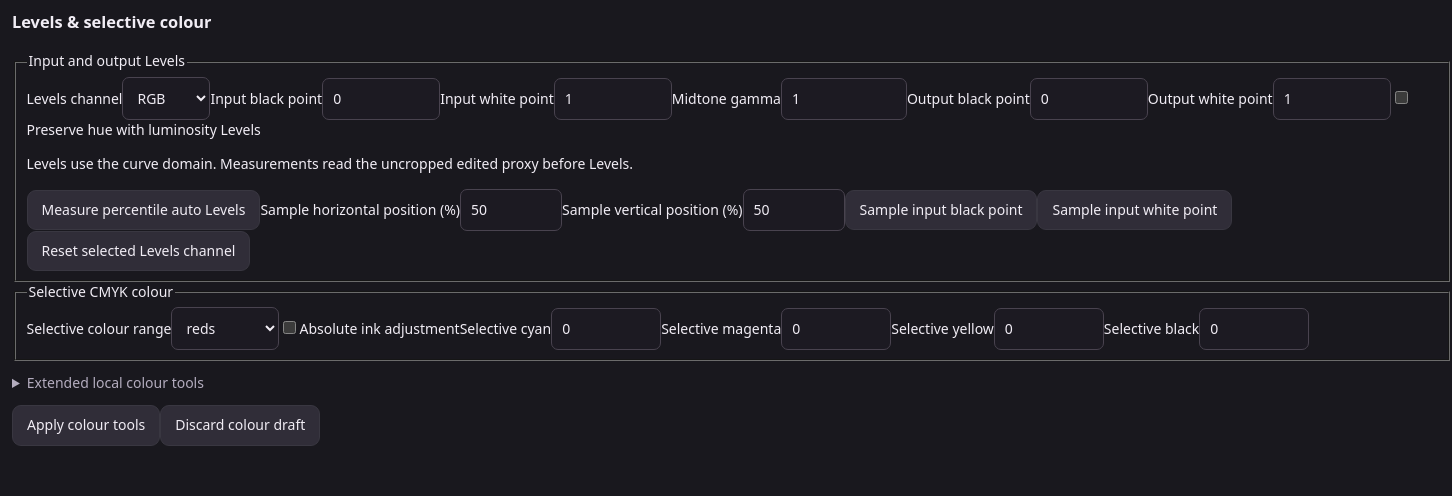
Test: shows the backend error and leaves the draft available after a stale save
The image size is (1452, 496).
Step 1. Replace the text in the number field labelled "Midtone gamma" with "1.6" → (844, 99), box [781,78,907,120]
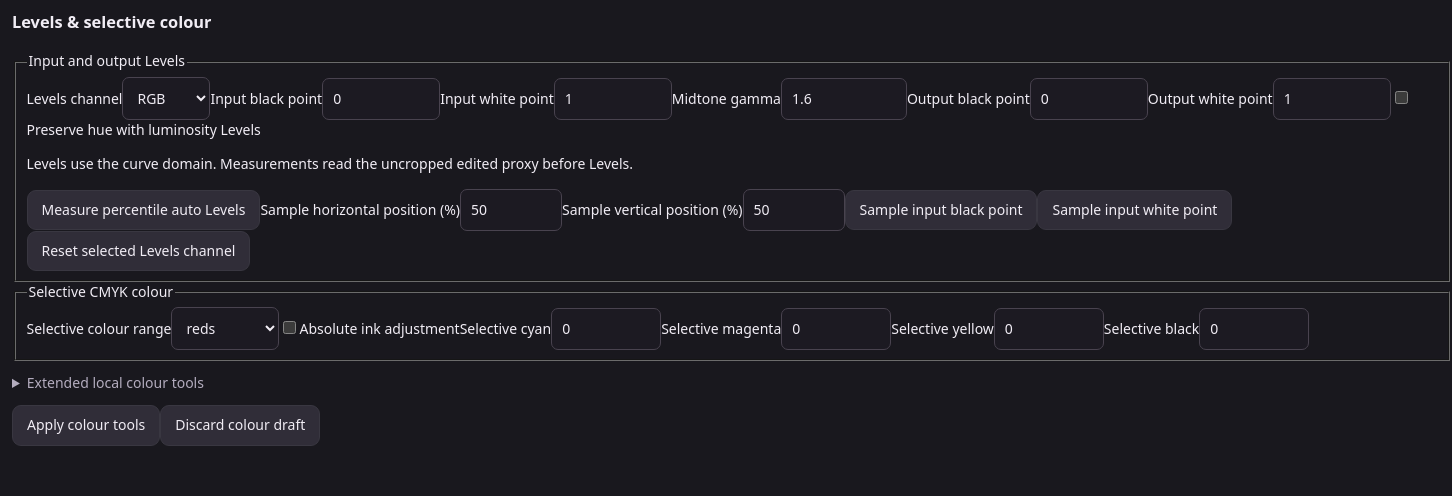
Step 2. Click the button "Apply colour tools" → (86, 426), box [12,405,160,446]
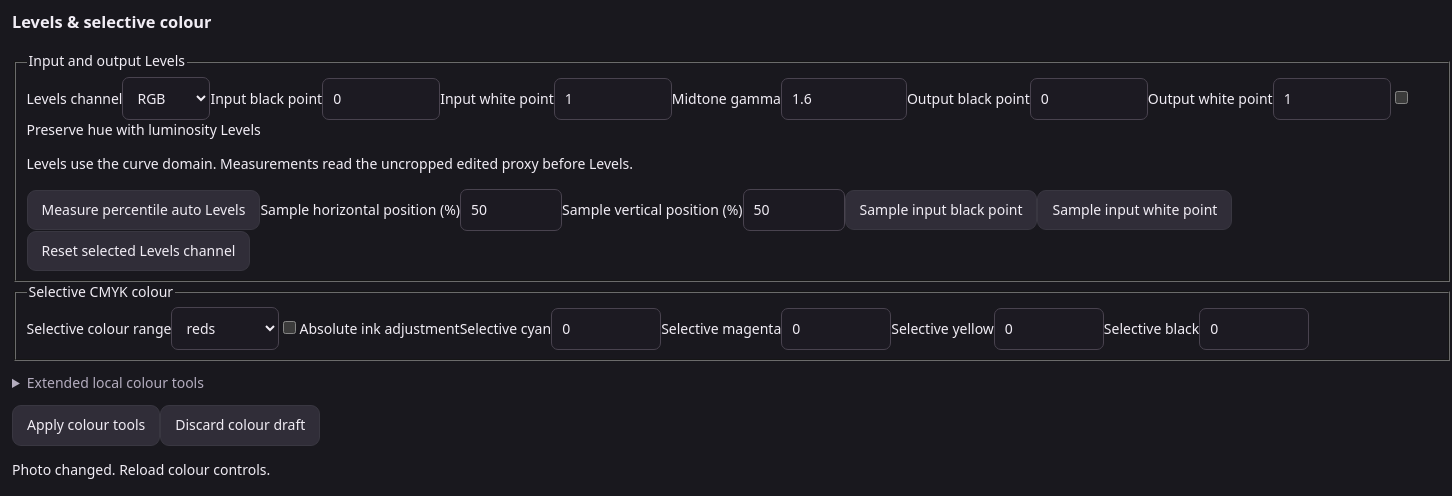
Expected: the text "Photo changed. Reload colour controls." is shown, [12,460,270,479]
